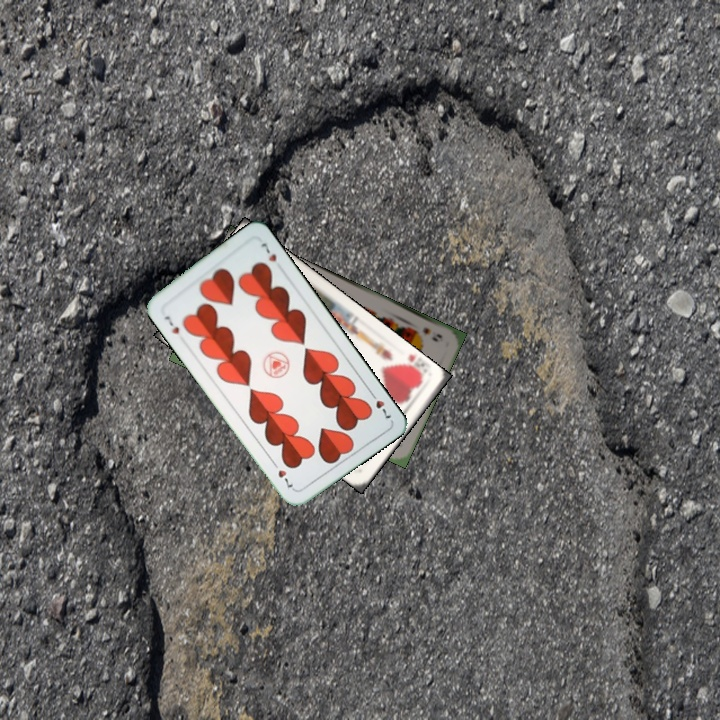H7: (366, 387, 394, 421), (160, 311, 182, 336)
HK: (399, 350, 425, 381)
S9: (419, 323, 445, 344)
